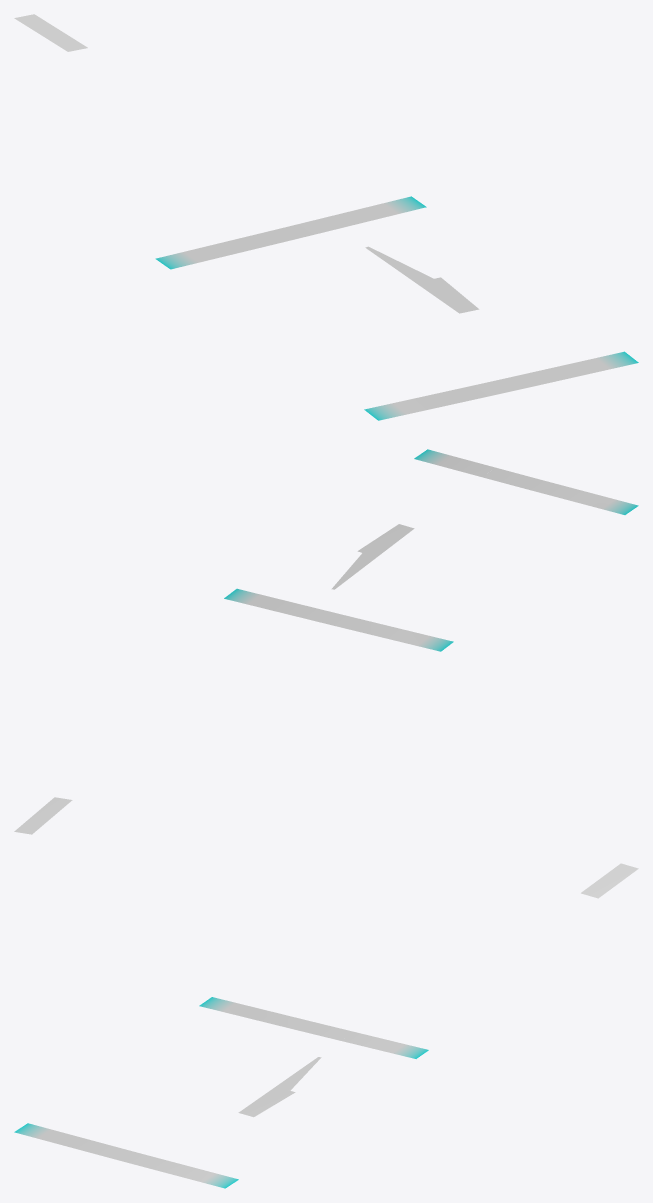
File: cell_145_102.fbx
The picture shows the model from 3 angles, top to bottom: view 1: azimuth 30°, elevation 25°; view 2: azimuth 150°, elevation 25°; view 3: azimuth 330°, elevation 25°; orthographic projection. The views are drawn at different scales.
Parts seen in each view (by area): view 1: SpaceCenter_Long3_GenerateRoad_Asphalt_PCGMesh_Decal_Mesh_x9, SpaceCenter_Long3_GenerateRoad_Asphalt_PCGMesh_Decal_Mesh_x., SpaceCenter_Long3_GenerateRoad_Asphalt_PCGMesh_Macadam_Deca., SpaceCenter_Long3_GenerateRoad_JTDecal_Asphalt_BM_Line_Mesh.; view 2: SpaceCenter_Long3_GenerateRoad_Asphalt_PCGMesh_Decal_Mesh_x9, SpaceCenter_Long3_GenerateRoad_Asphalt_PCGMesh_Decal_Mesh_x., SpaceCenter_Long3_GenerateRoad_Asphalt_PCGMesh_Macadam_Deca., SpaceCenter_Long3_GenerateRoad_JTDecal_Asphalt_BM_Line_Mesh.; view 3: SpaceCenter_Long3_GenerateRoad_Asphalt_PCGMesh_Decal_Mesh_x9, SpaceCenter_Long3_GenerateRoad_Asphalt_PCGMesh_Decal_Mesh_x., SpaceCenter_Long3_GenerateRoad_Asphalt_PCGMesh_Macadam_Deca., SpaceCenter_Long3_GenerateRoad_JTDecal_Asphalt_BM_Line_Mesh..
Boxes of the visible parts, bbox=[...] form: SpaceCenter_Long3_GenerateRoad_Asphalt_PCGMesh_Decal_Mesh_x9: bbox=[155, 218, 554, 420]; SpaceCenter_Long3_GenerateRoad_Asphalt_PCGMesh_Decal_Mesh_x.: bbox=[323, 196, 638, 381]; SpaceCenter_Long3_GenerateRoad_Asphalt_PCGMesh_Macadam_Deca.: bbox=[365, 246, 479, 313]; SpaceCenter_Long3_GenerateRoad_JTDecal_Asphalt_BM_Line_Mesh.: bbox=[14, 14, 87, 51]; SpaceCenter_Long3_GenerateRoad_Asphalt_PCGMesh_Decal_Mesh_x9: bbox=[299, 467, 638, 651]; SpaceCenter_Long3_GenerateRoad_Asphalt_PCGMesh_Decal_Mesh_x.: bbox=[224, 449, 495, 616]; SpaceCenter_Long3_GenerateRoad_Asphalt_PCGMesh_Macadam_Deca.: bbox=[331, 524, 414, 589]; SpaceCenter_Long3_GenerateRoad_JTDecal_Asphalt_BM_Line_Mesh.: bbox=[14, 797, 72, 834]; SpaceCenter_Long3_GenerateRoad_Asphalt_PCGMesh_Decal_Mesh_x9: bbox=[14, 997, 353, 1170]; SpaceCenter_Long3_GenerateRoad_Asphalt_PCGMesh_Decal_Mesh_x.: bbox=[157, 1032, 428, 1188]; SpaceCenter_Long3_GenerateRoad_Asphalt_PCGMesh_Macadam_Deca.: bbox=[238, 1057, 321, 1117]; SpaceCenter_Long3_GenerateRoad_JTDecal_Asphalt_BM_Line_Mesh.: bbox=[581, 863, 638, 898].
Size of the model in its own units: 9.78 by 1.32 by 35.42.
